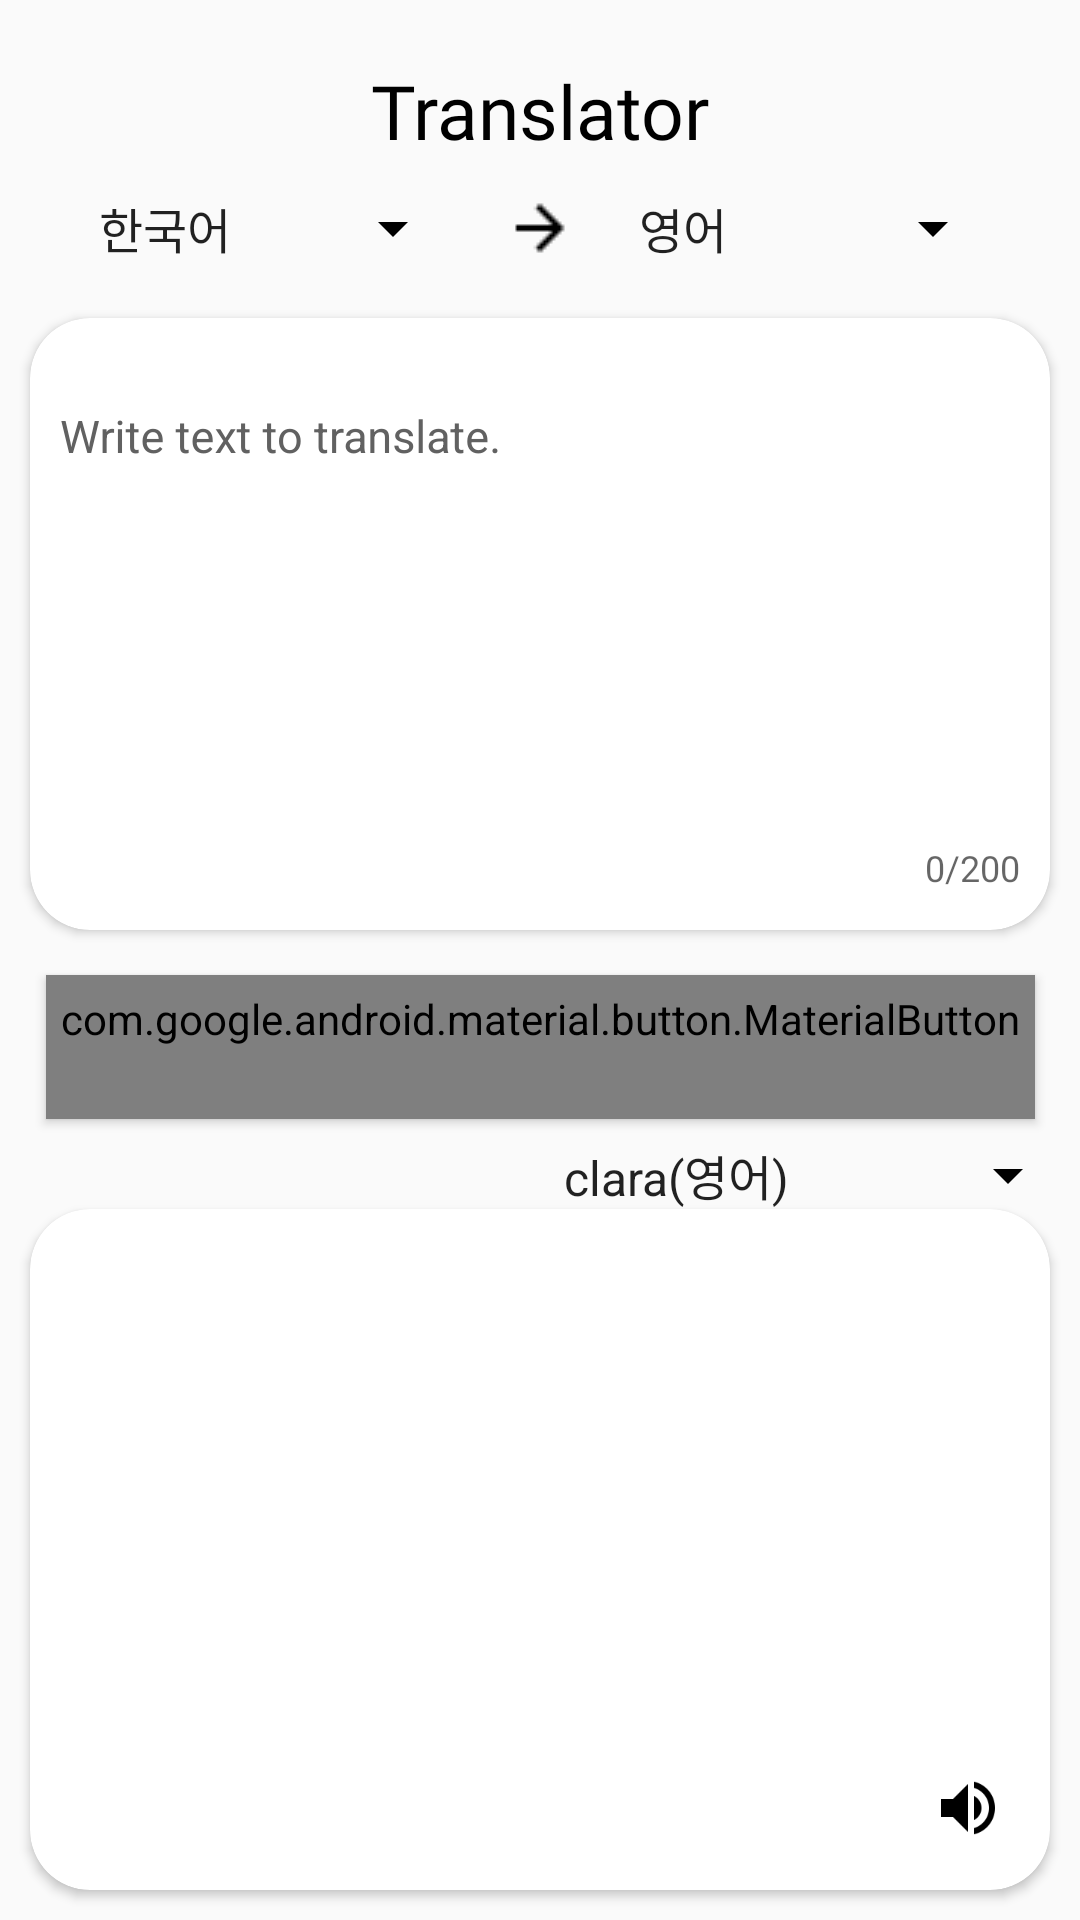

Point at icon controls on the screen. Image size 1080px x 1920px, points as (x=x, y=y).
arrow forward: (x=540, y=228)
volume up: (x=968, y=1808)
